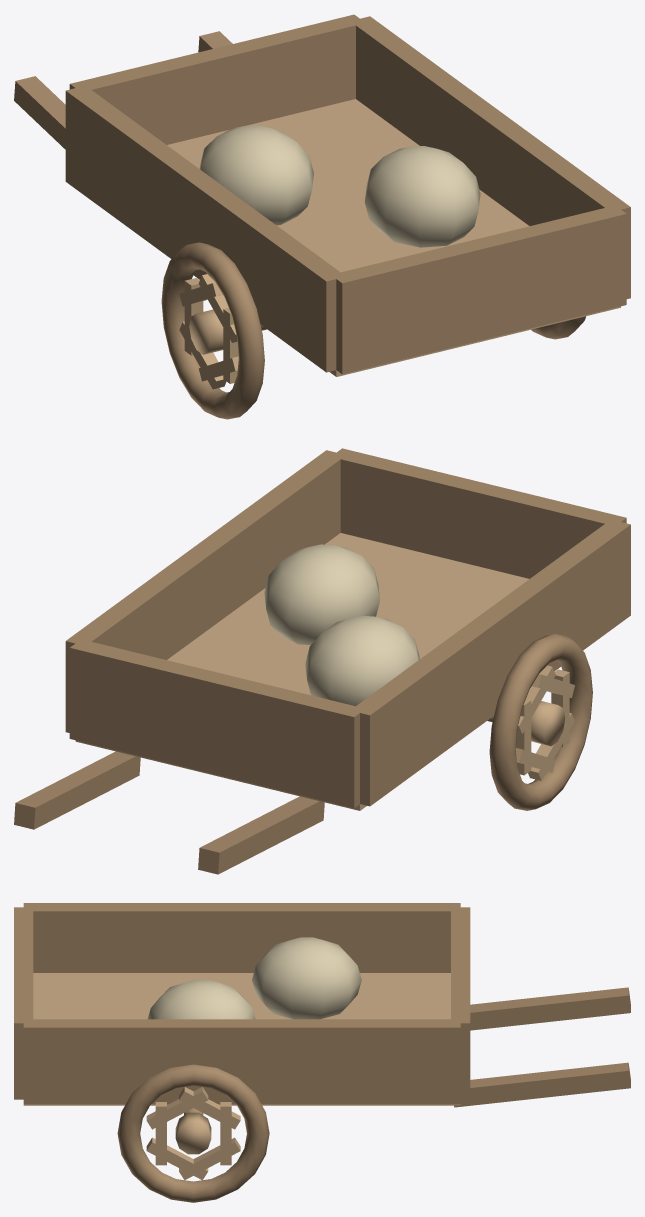
Rendered from cart.fbx.
3 views of the same model, one above another, from view 1: azimuth 30°, elevation 25°; view 2: azimuth 150°, elevation 25°; view 3: azimuth 270°, elevation 25° (orthographic). The views are drawn at different scales.
Parts seen in each view (by area): view 1: Cart; view 2: Cart; view 3: Cart.
Boxes of the visible parts, x1=… form: Cart: x1=14, y1=14, x2=630, y2=419; Cart: x1=14, y1=448, x2=630, y2=874; Cart: x1=14, y1=903, x2=630, y2=1202.
Bounding box in the file's own units: 2.12 × 1.17 × 3.81.
